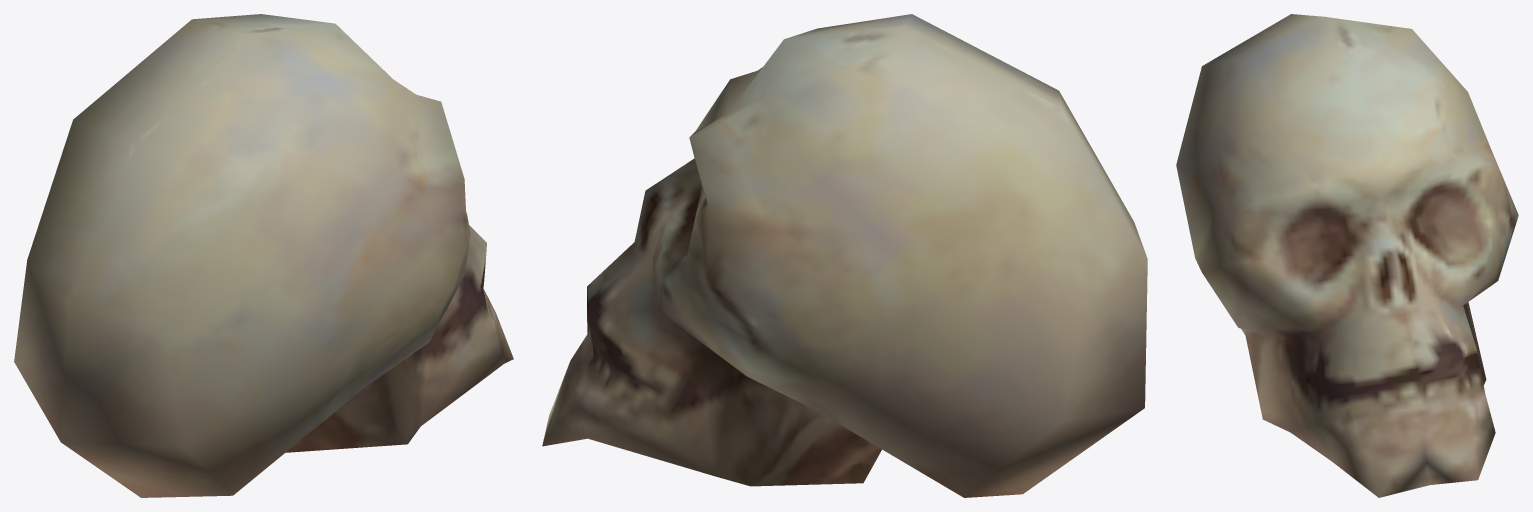
File: all_item_bone_human_skull_01.glb
The picture shows the model from 3 angles, left to right: view 1: azimuth 30°, elevation 25°; view 2: azimuth 150°, elevation 25°; view 3: azimuth 270°, elevation 25°; orthographic projection. The views are drawn at different scales.
Visible parts, largest first — view 1: all_item_bone_human_skull_01; view 2: all_item_bone_human_skull_01; view 3: all_item_bone_human_skull_01.
Boxes of the visible parts, x1=… form: all_item_bone_human_skull_01: x1=14, y1=14, x2=513, y2=497; all_item_bone_human_skull_01: x1=542, y1=14, x2=1147, y2=497; all_item_bone_human_skull_01: x1=1176, y1=14, x2=1518, y2=497.
Bounding box in the file's own units: 0.0393 × 0.0325 × 0.0269.
Materials: 1 (1 with a texture image).
